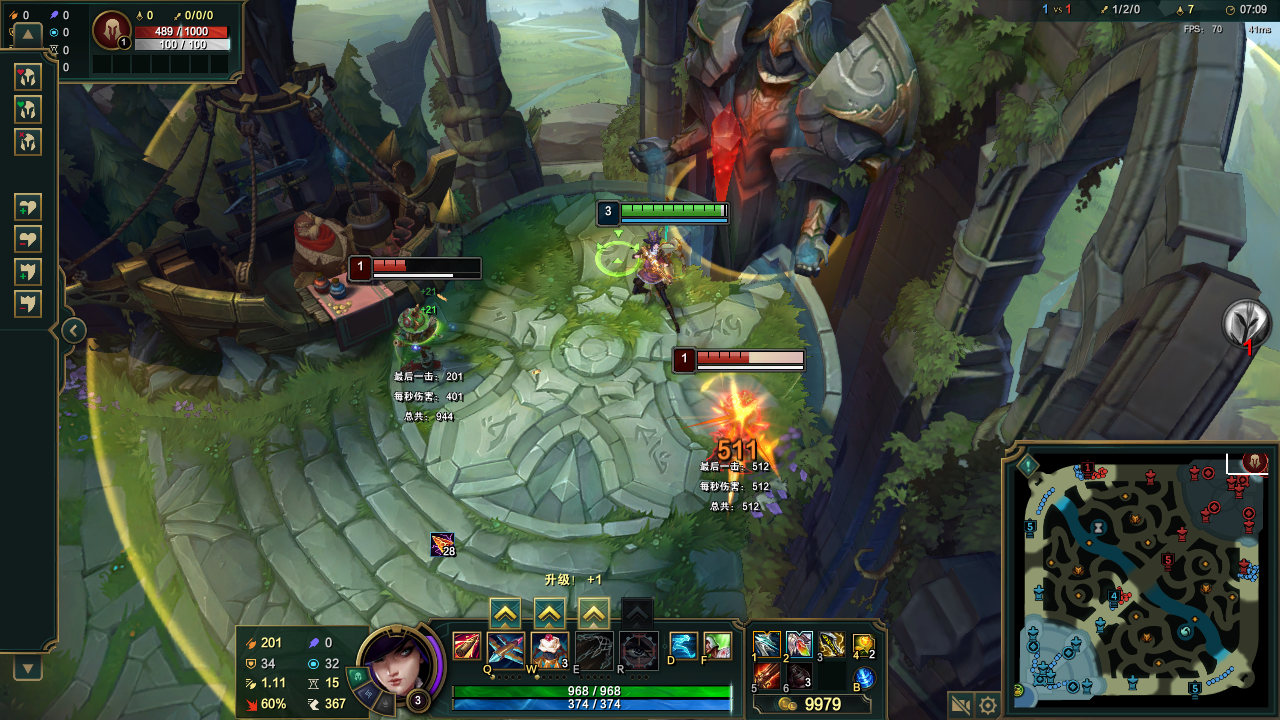DFYX: (372, 257, 484, 272), (694, 351, 805, 362)
